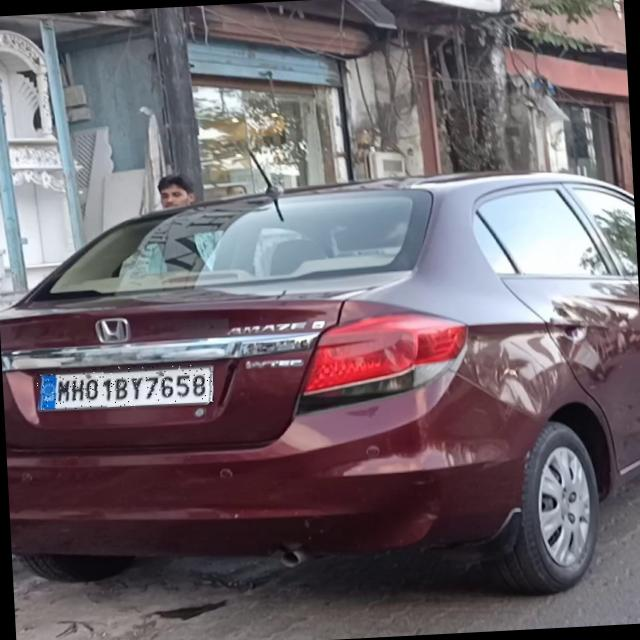Plate: (36, 364, 215, 413)
